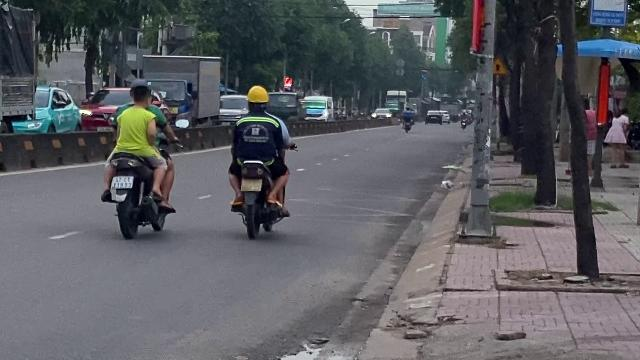helmet: (244, 84, 270, 110)
licenseplate: (111, 176, 132, 188), (241, 179, 261, 190)
motorcyclist: (98, 78, 178, 238), (225, 84, 295, 239)
nohelmet: (130, 86, 152, 112)
